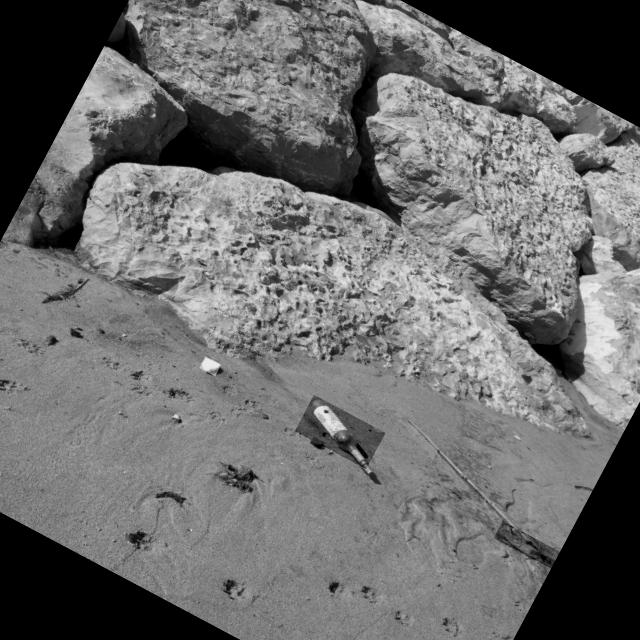Bottle cap: (310, 438, 321, 448)
Glass bottle: (307, 399, 367, 467)
Plastic film: (497, 526, 554, 563)
Styrofoam piece: (201, 359, 219, 373)
